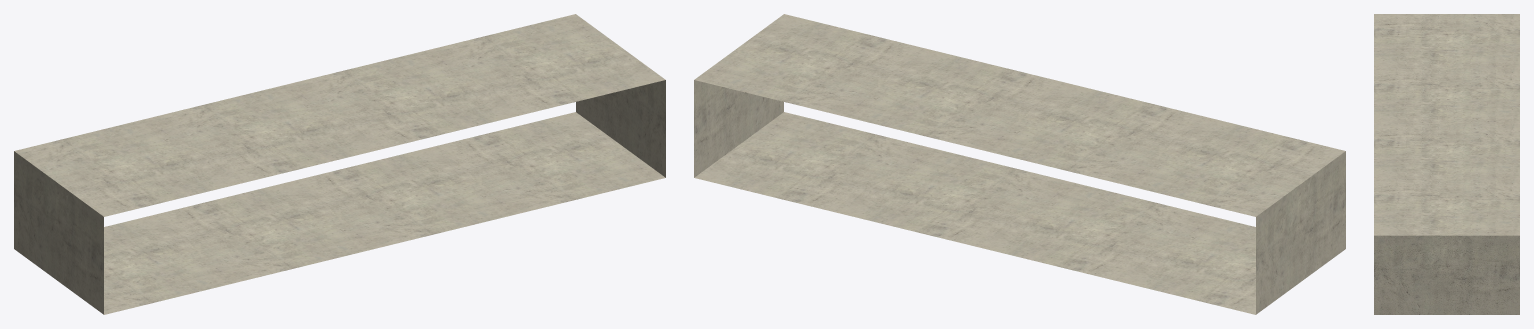
File: BridgeBase-18w-5l-3d.FBX
The picture shows the model from 3 angles, left to right: view 1: azimuth 30°, elevation 25°; view 2: azimuth 150°, elevation 25°; view 3: azimuth 270°, elevation 25°; orthographic projection. The views are drawn at different scales.
Visible parts, largest first — view 1: BridgeBase-18-5-3; view 2: BridgeBase-18-5-3; view 3: BridgeBase-18-5-3.
Part boxes in pixels (box(x1,y1,x2,y2)): BridgeBase-18-5-3: box(14, 14, 665, 314); BridgeBase-18-5-3: box(694, 14, 1345, 314); BridgeBase-18-5-3: box(1374, 14, 1519, 314).
Bounding box in the file's own units: 18 × 3 × 5.
